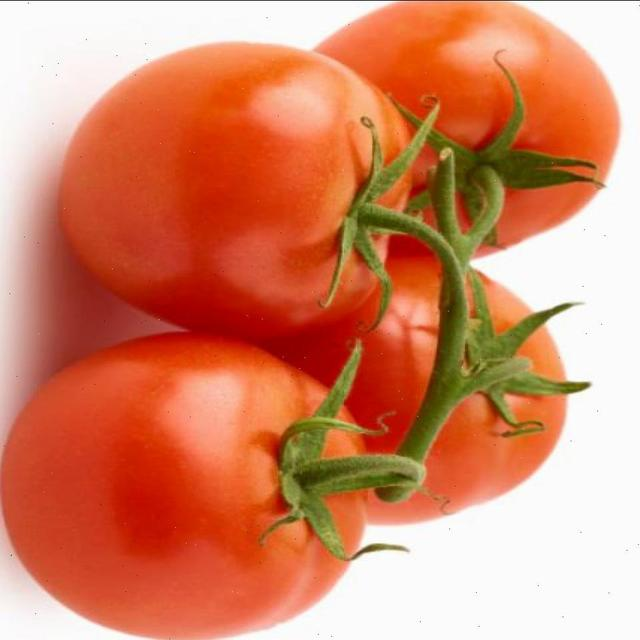Healthy Fruit: (130, 94, 332, 328)
